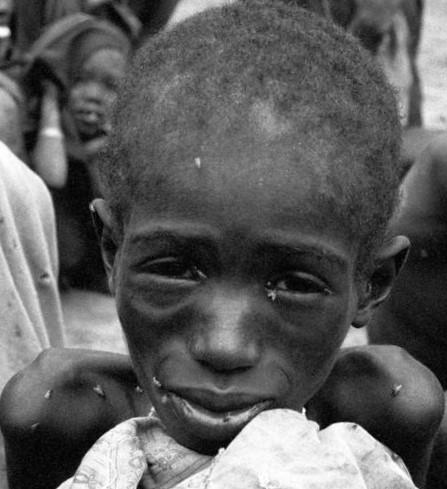Stunting: (78, 33, 416, 481)
